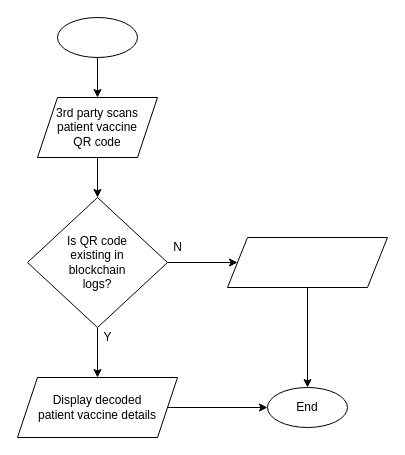
Some shapes in this 405 by 455 pixel diagram are drawn without their labels. Here are the shapes that lost their labels. From the top down, the box of each, then its label:
(56, 16, 138, 58): Start
(226, 236, 388, 288): Display error message "Invalid QR code"
